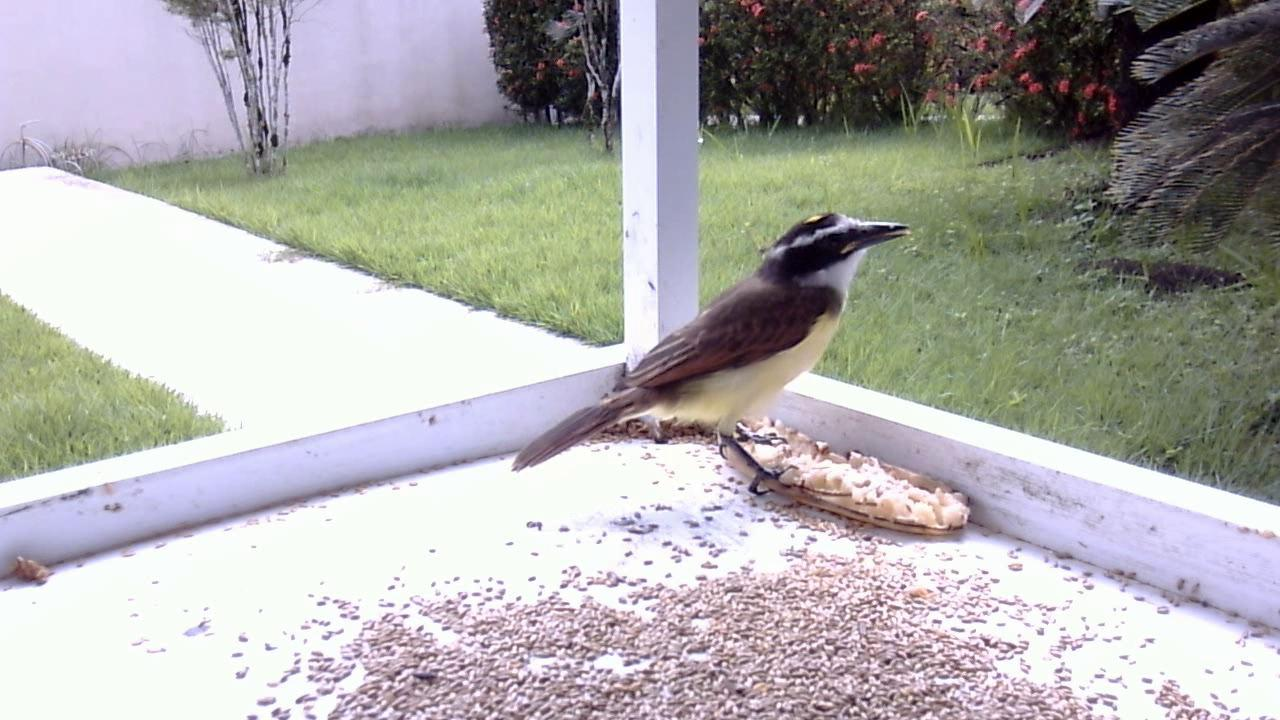bem_te_vi: (498, 208, 918, 517)
